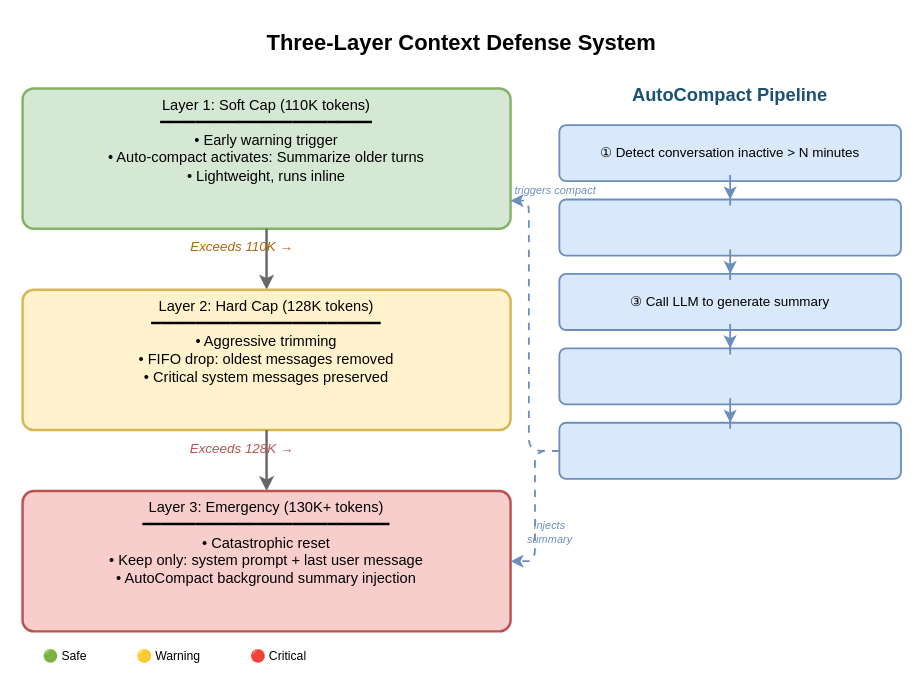
The diagram is 922 pixels wide and 688 high, and some of its shapes have lost their labels. Here are the shapes that lost their labels. From the top down, the centre of each, then its label:
point (729, 227): ② Read full session history from JSONL
point (729, 376): ④ Store summary in metadata._last_summary
point (729, 450): ⑤ Next session: inject summary into system prompt
